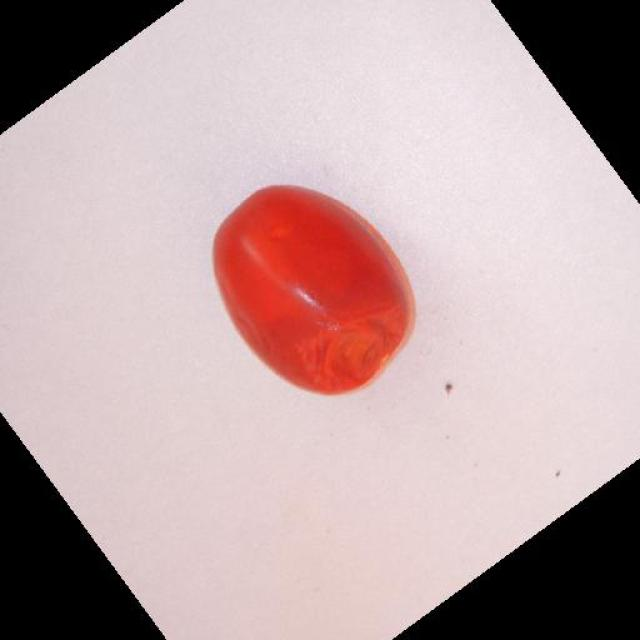Stale_tomato: (221, 160, 428, 396)
